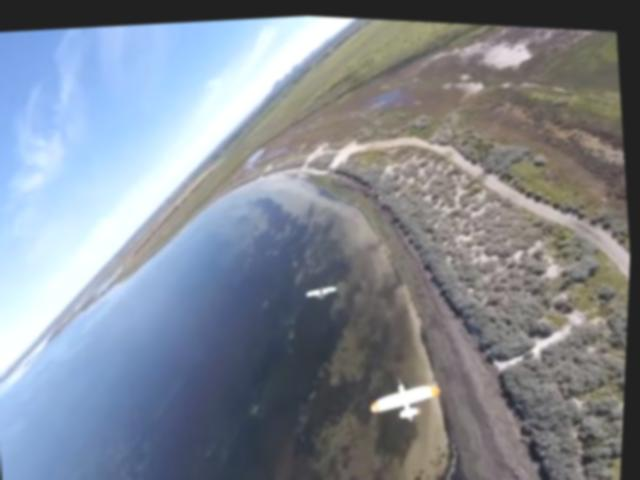uav: (373, 373, 448, 423), (307, 277, 340, 301)
